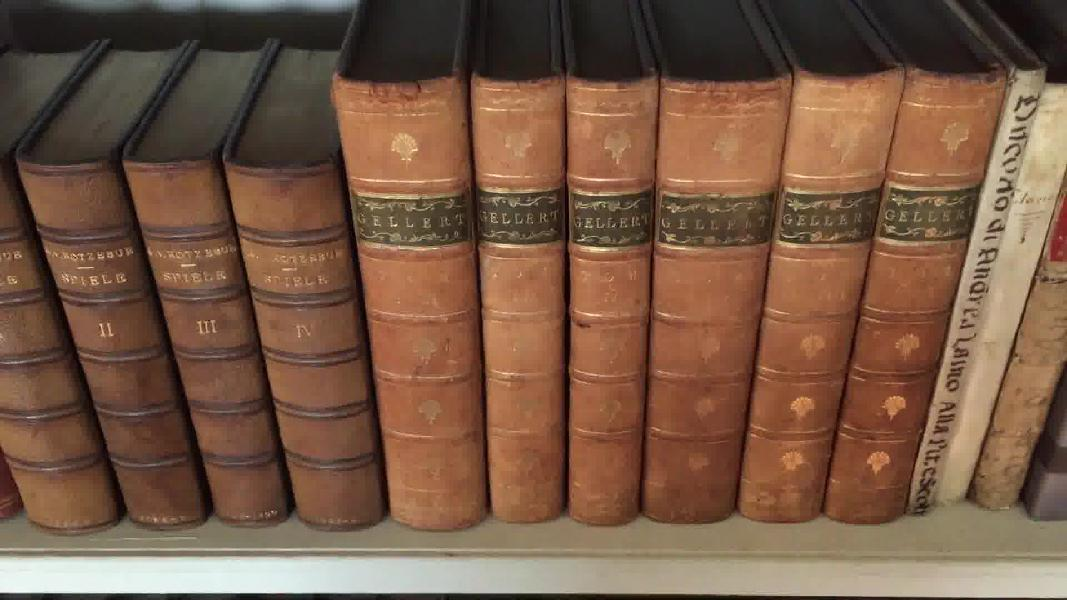Aa6-14_17: (1, 135, 385, 540)
Aa6-18_23: (324, 62, 1005, 538)
Aa6-24: (908, 55, 1042, 524)
Aa6-25: (935, 19, 1067, 526)
